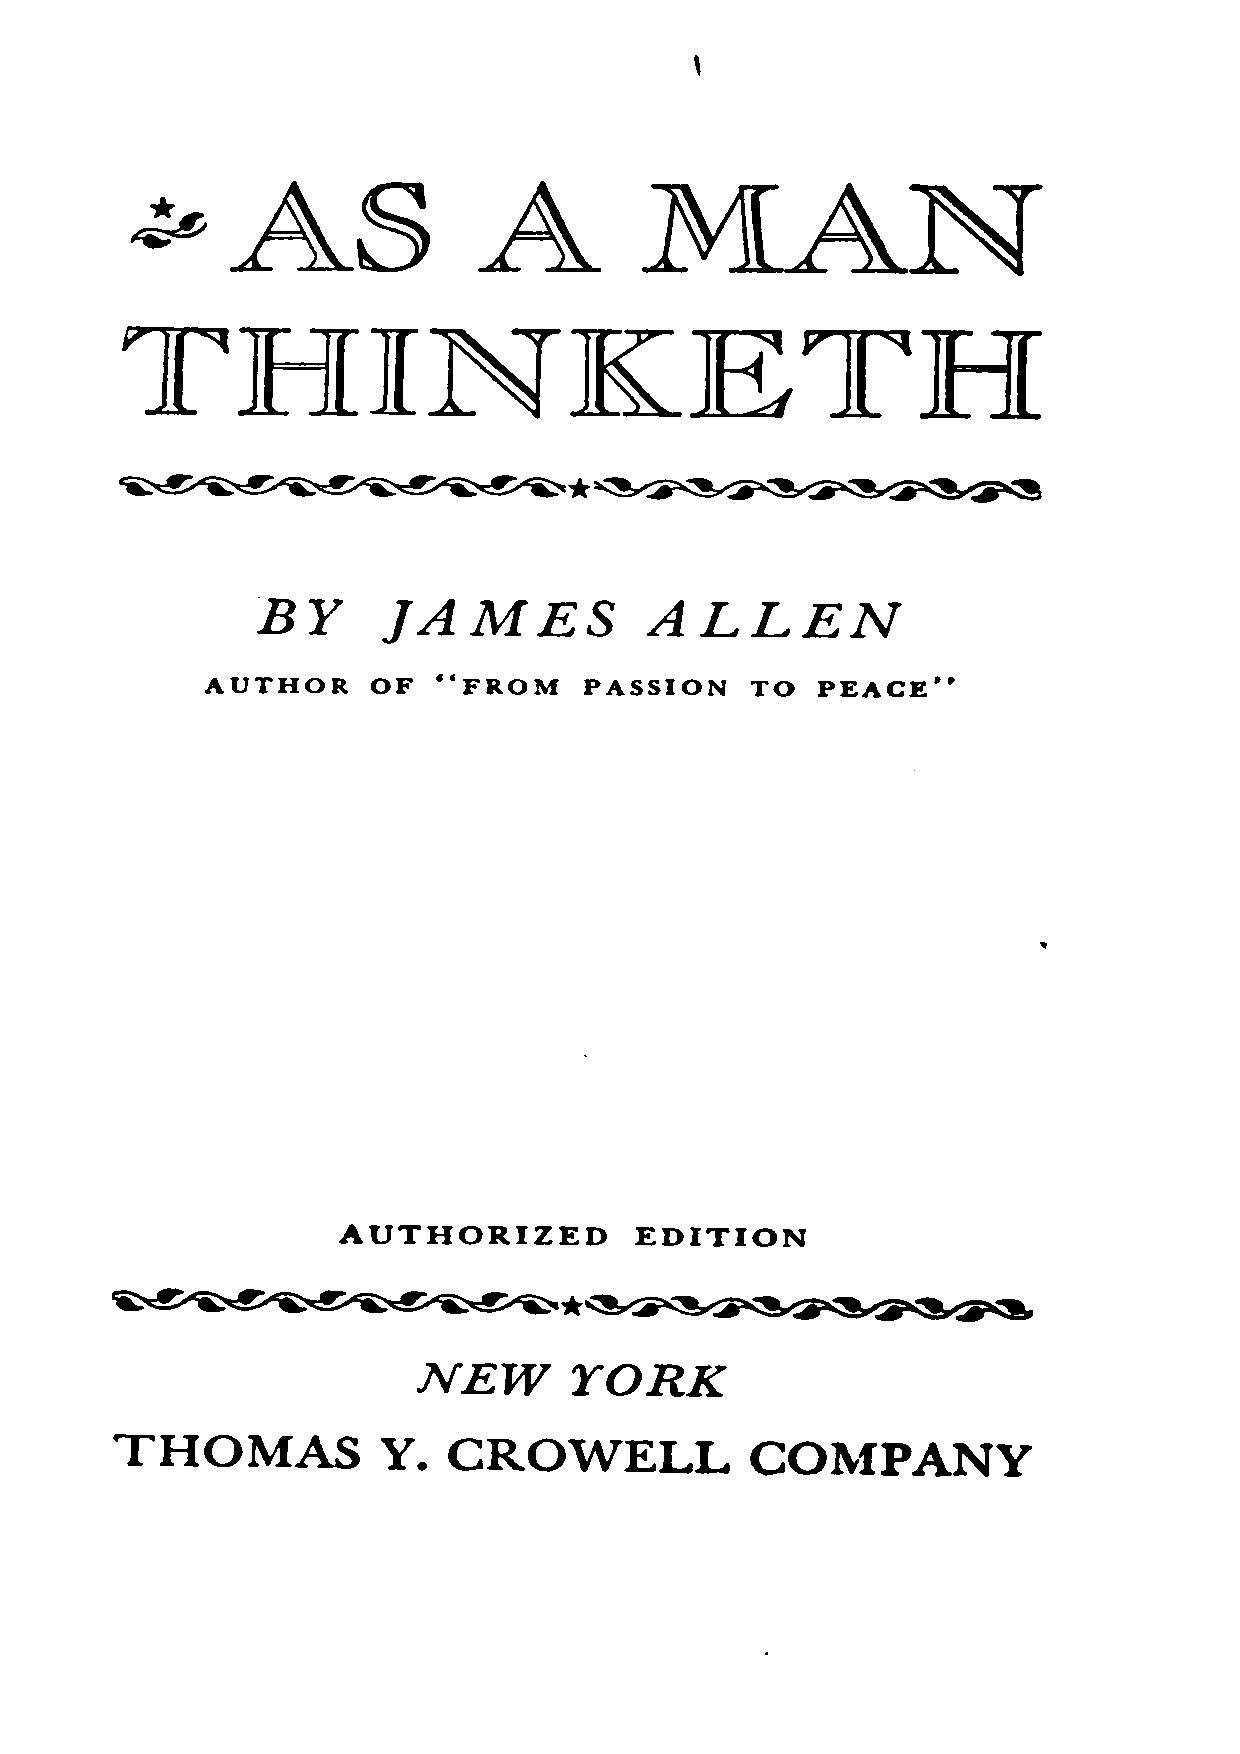author: (251, 595, 900, 647)
title: (119, 176, 1043, 420)
